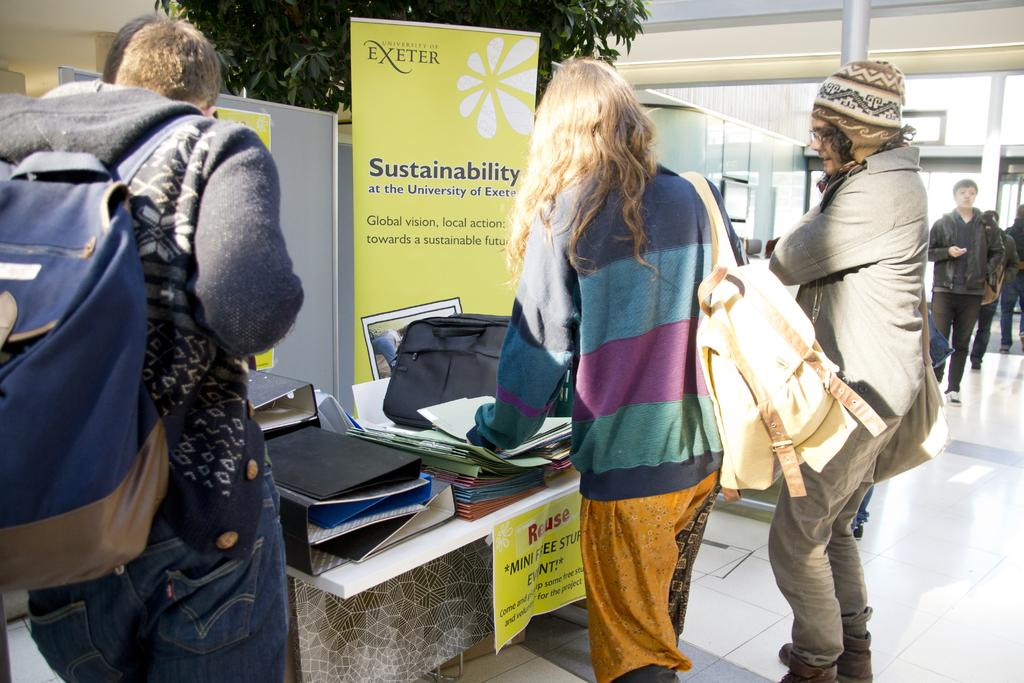Luggage-and-bags: (0, 113, 200, 593), (675, 165, 884, 502), (868, 273, 950, 486), (383, 312, 509, 425), (979, 213, 1006, 306)
